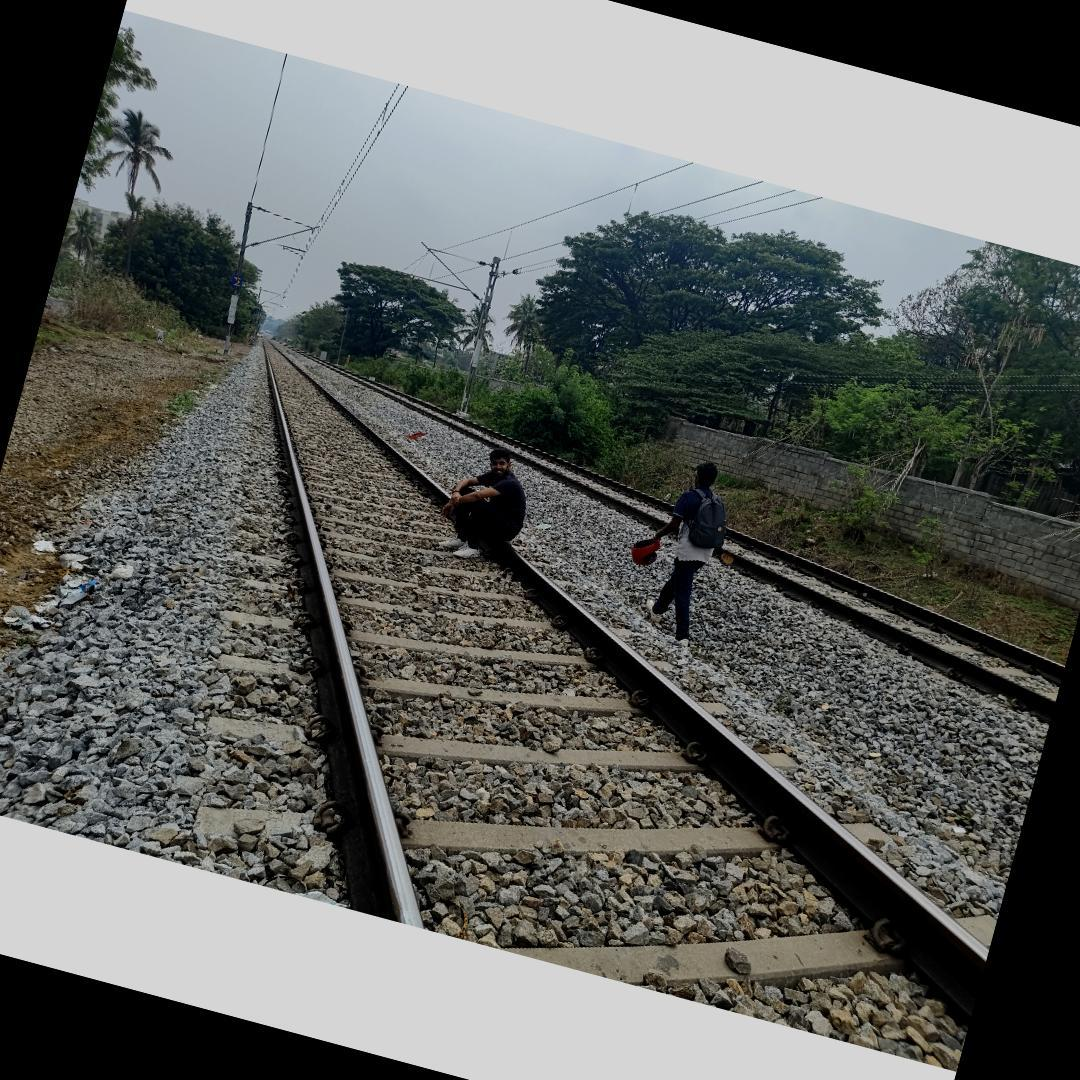sitting: (435, 442, 529, 559)
standing: (629, 453, 729, 649)
track: (259, 331, 990, 1068)
